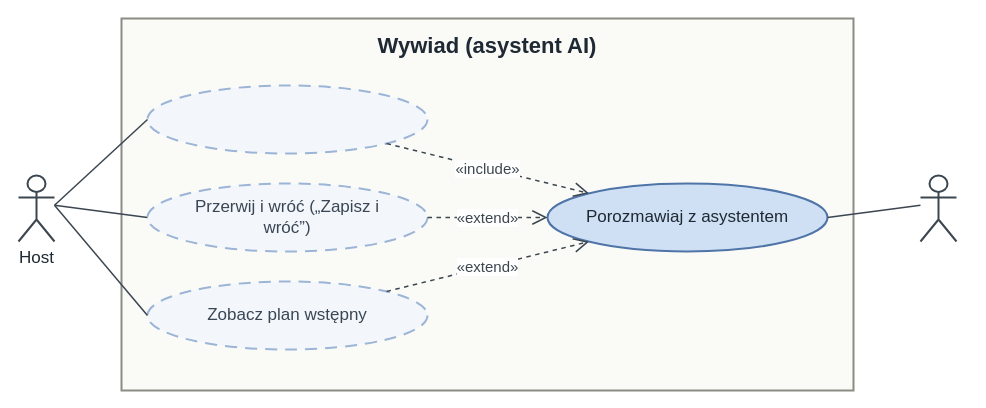
Some shapes in this 986 by 408 pixel diagram are drawn without their labels. The centre of each missing label's shape, as x and y in pixels:
Członek podróży: point 938,208
Zacznij planowanie jednym zdaniem: point 287,119
